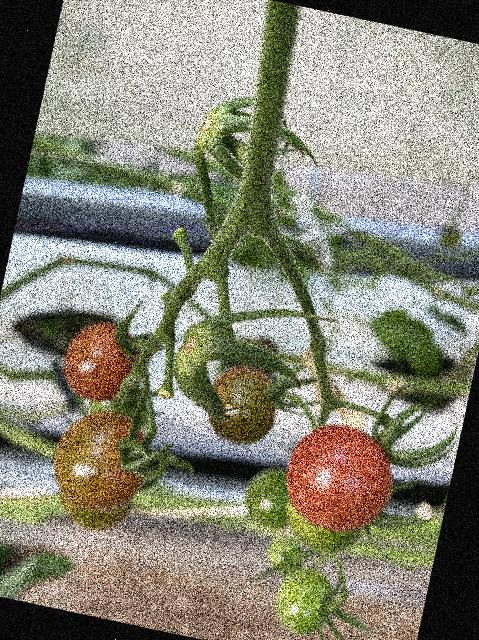l_fully_ripened: (276, 415, 404, 541)
l_green: (202, 361, 283, 450), (278, 496, 366, 559), (270, 563, 339, 637)
l_half_ripened: (42, 402, 155, 536), (59, 315, 144, 406)
